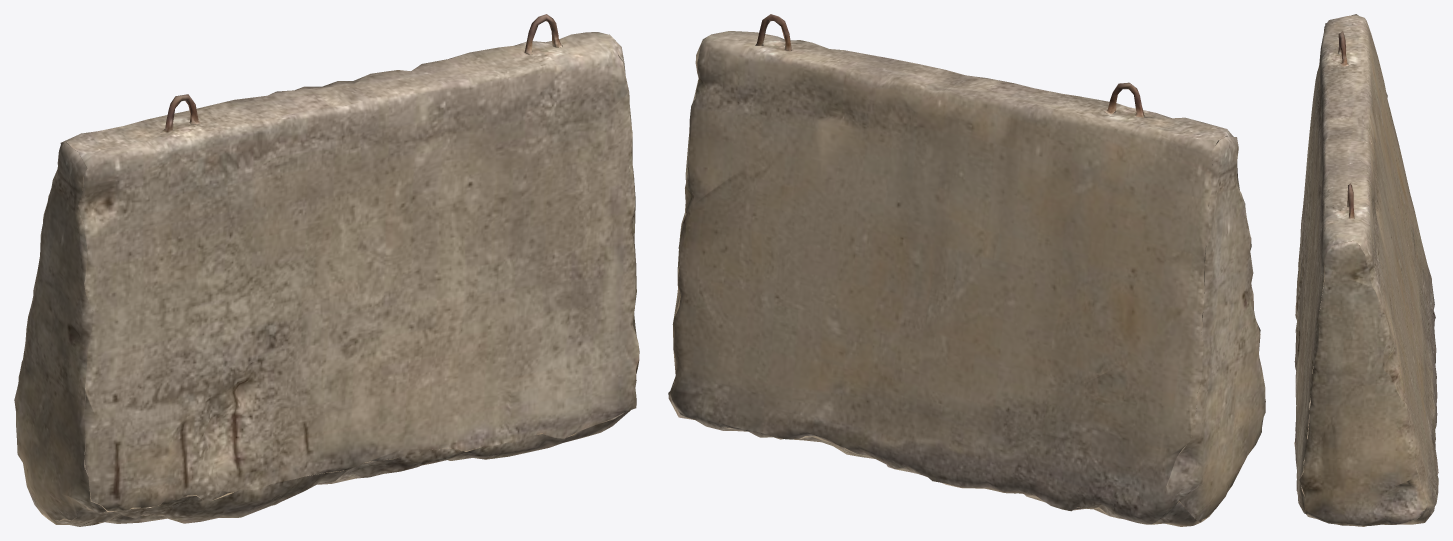
The model's file is barrier_2.glb.
3 views of the same model, side by side, from view 1: azimuth 30°, elevation 25°; view 2: azimuth 150°, elevation 25°; view 3: azimuth 270°, elevation 25° (orthographic). The views are drawn at different scales.
Parts seen in each view (by area): view 1: barrier_2; view 2: barrier_2; view 3: barrier_2.
Boxes of the visible parts, left/top/right/bottom form: barrier_2: left=14, top=14, right=639, bottom=526; barrier_2: left=668, top=14, right=1265, bottom=526; barrier_2: left=1294, top=14, right=1438, bottom=526.
Size of the model in its own units: 1.56 by 1.11 by 0.4401.
1 material, 1 textured.
